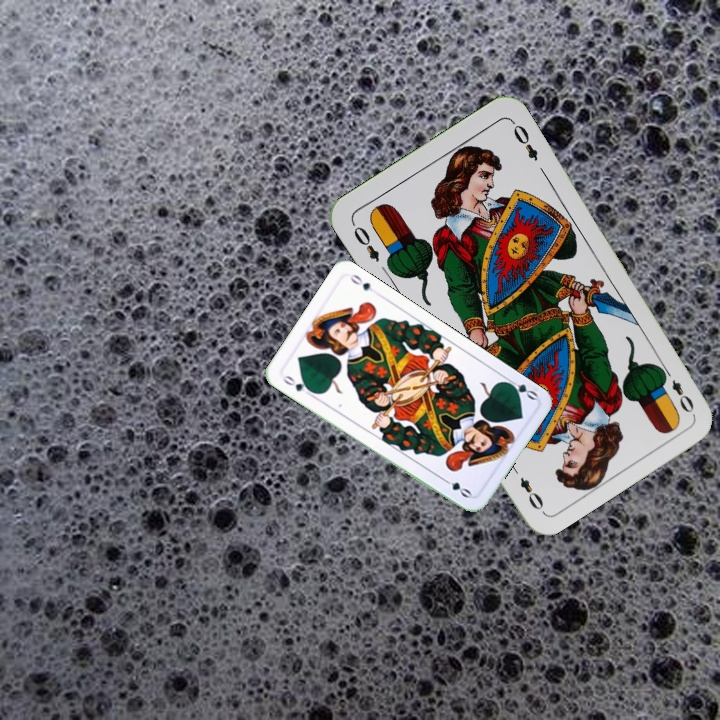EO: (657, 363, 697, 416), (347, 218, 382, 265)
GO: (501, 374, 540, 403), (279, 371, 316, 395)
